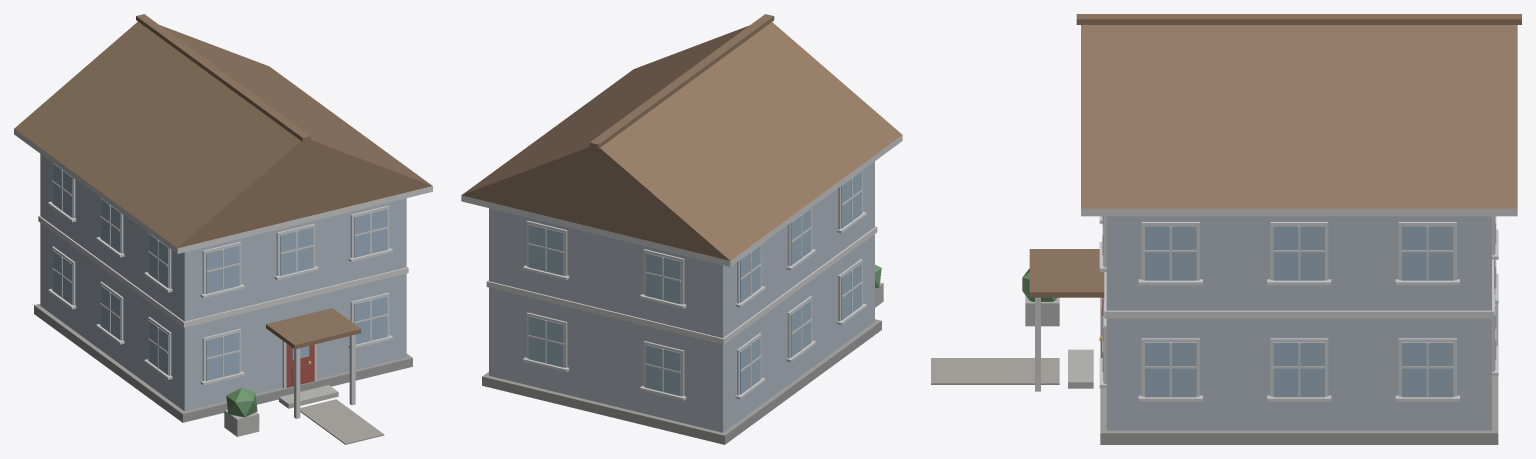
Rendered from Villa_12.glb.
The picture shows the model from 3 angles, left to right: view 1: azimuth 30°, elevation 25°; view 2: azimuth 150°, elevation 25°; view 3: azimuth 270°, elevation 25°; orthographic projection. The views are drawn at different scales.
Visible parts, largest first — view 1: Villa_12; view 2: Villa_12; view 3: Villa_12.
Boxes of the visible parts, bbox=[...] form: Villa_12: bbox=[14, 14, 432, 444]; Villa_12: bbox=[461, 14, 902, 444]; Villa_12: bbox=[931, 14, 1521, 444].
Size of the model in its own units: 9.2 by 9.1 by 13.8.
